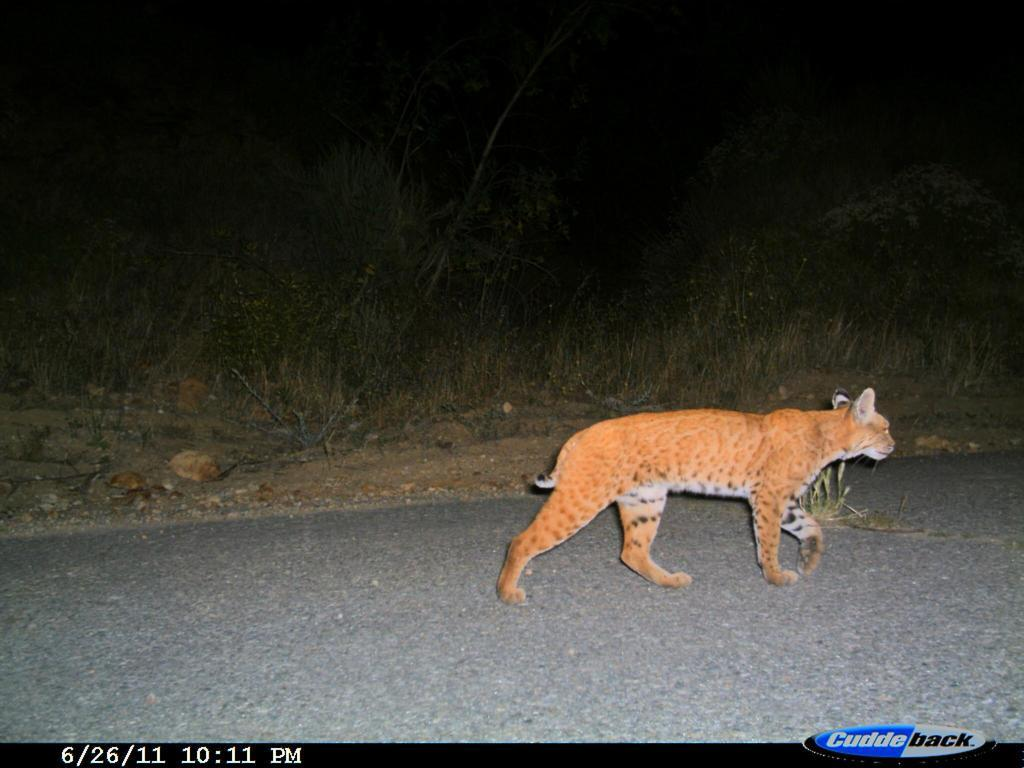bobcat: (487, 377, 903, 612)
